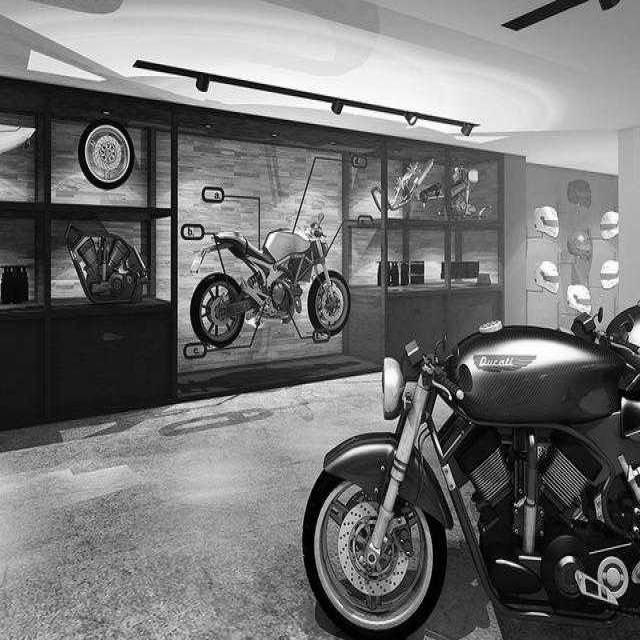Motorcycle: (302, 305, 640, 636), (190, 226, 350, 347)
